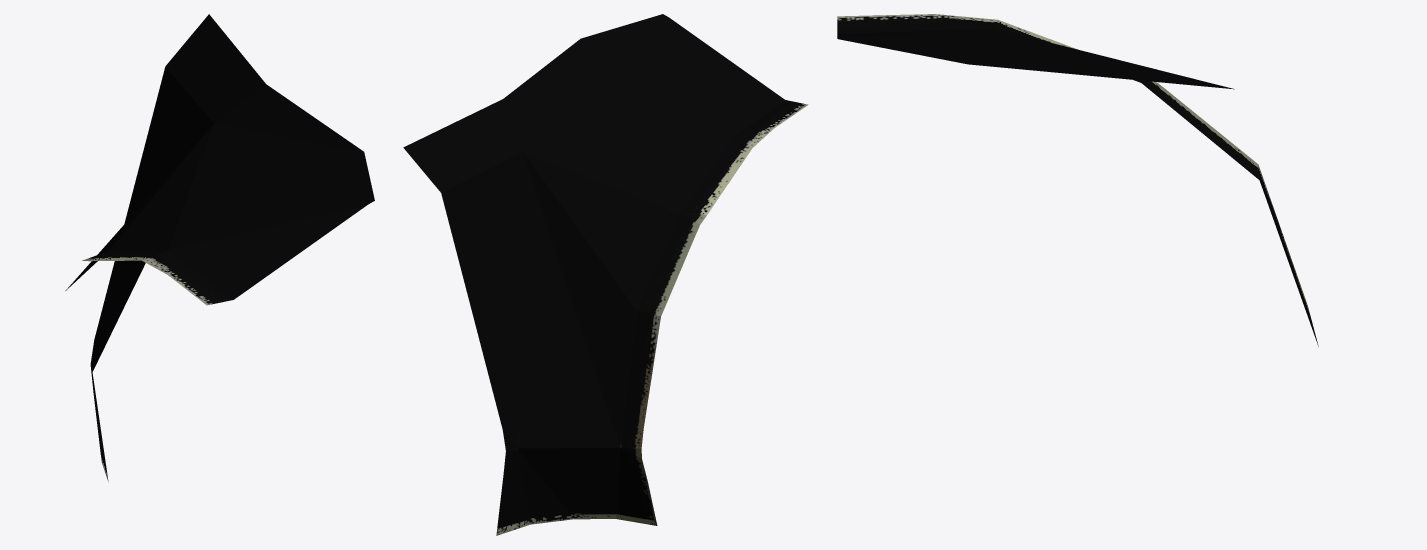
3 renders of one model, left to right at view 1: azimuth 30°, elevation 25°; view 2: azimuth 150°, elevation 25°; view 3: azimuth 270°, elevation 25°, orthographic. The views are drawn at different scales.
Size of the model in its own units: 3.44 by 5.9 by 5.9.
Materials: 2 (2 with a texture image).
